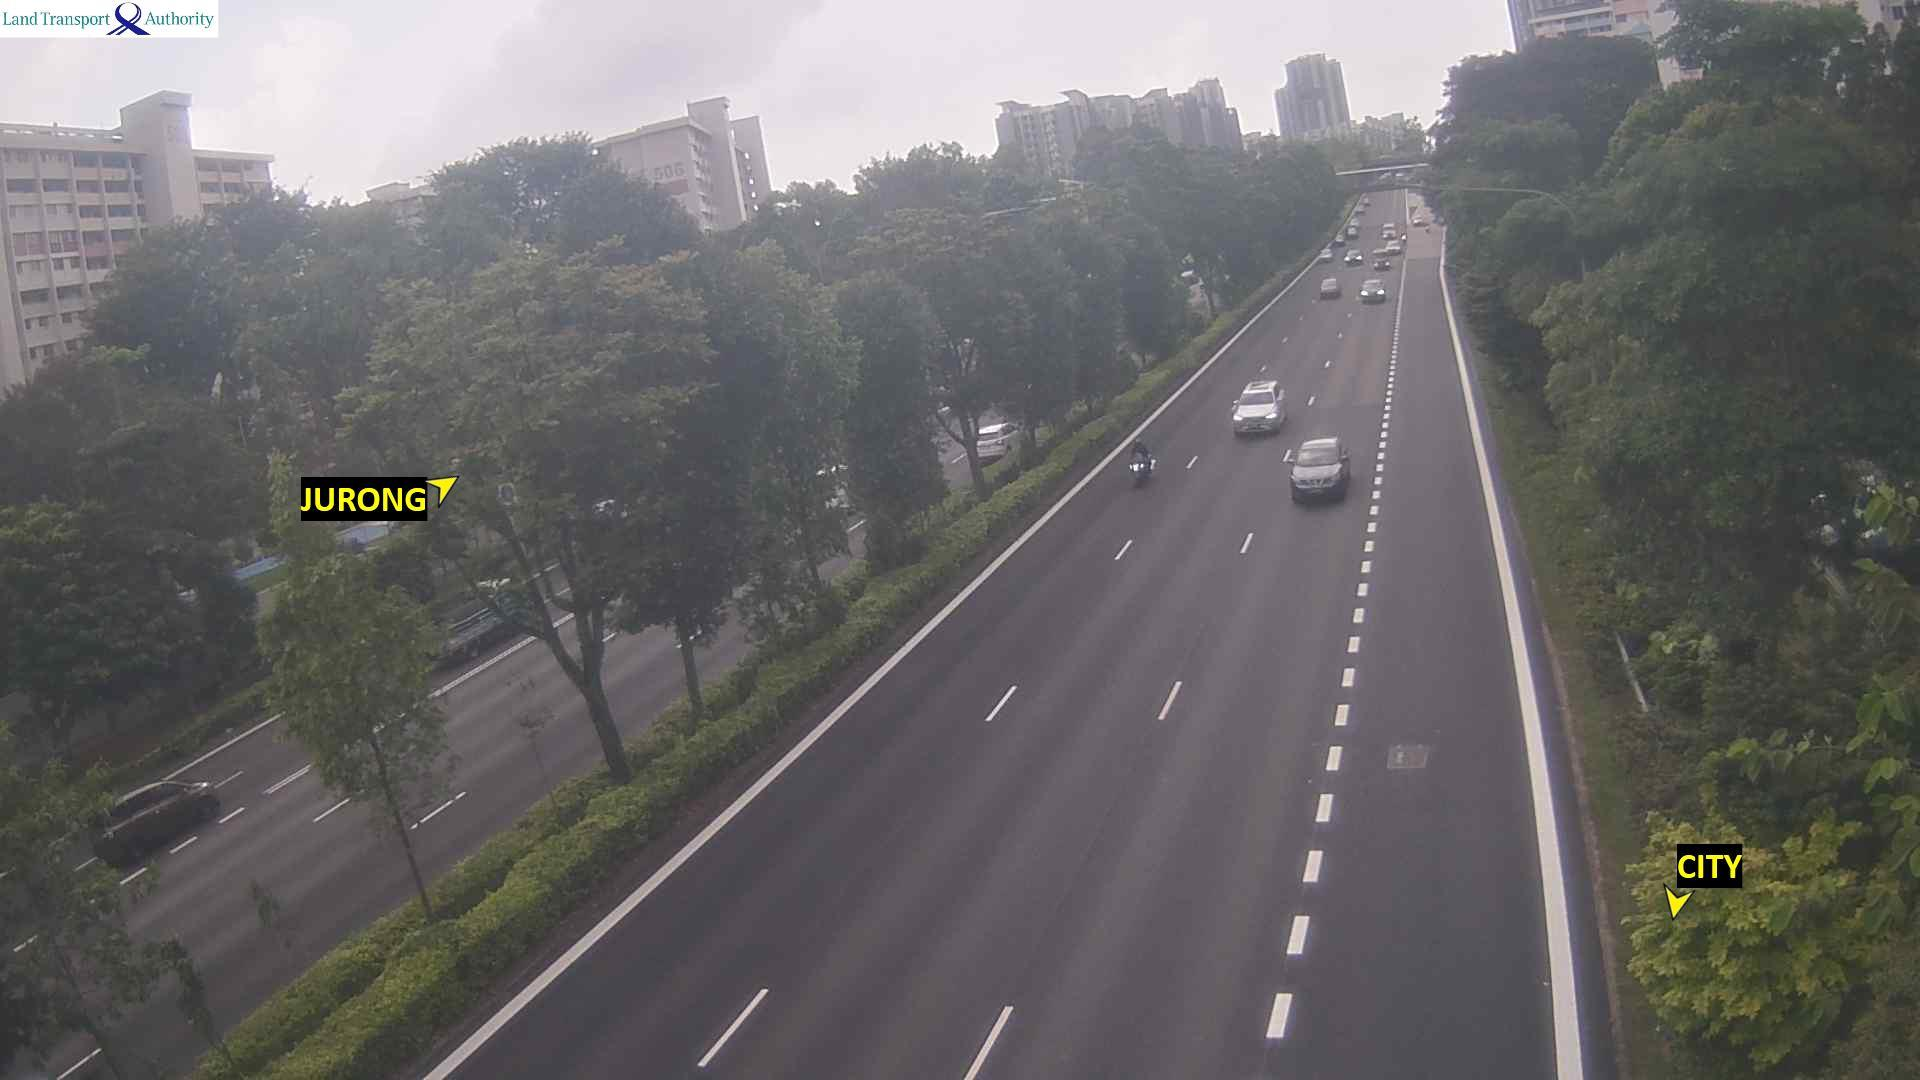cars: (90, 778, 220, 866), (1282, 435, 1350, 502), (1230, 378, 1286, 435), (971, 419, 1018, 463), (1358, 276, 1385, 303), (1317, 276, 1340, 299), (1342, 247, 1364, 264), (1410, 210, 1429, 227), (1371, 255, 1391, 272), (1385, 236, 1403, 253), (1379, 220, 1395, 237), (1317, 243, 1333, 260), (1345, 222, 1360, 237), (1357, 193, 1369, 211), (1333, 229, 1345, 245)
motorcycle: (1127, 446, 1155, 487)
trucks: (431, 600, 509, 669)
